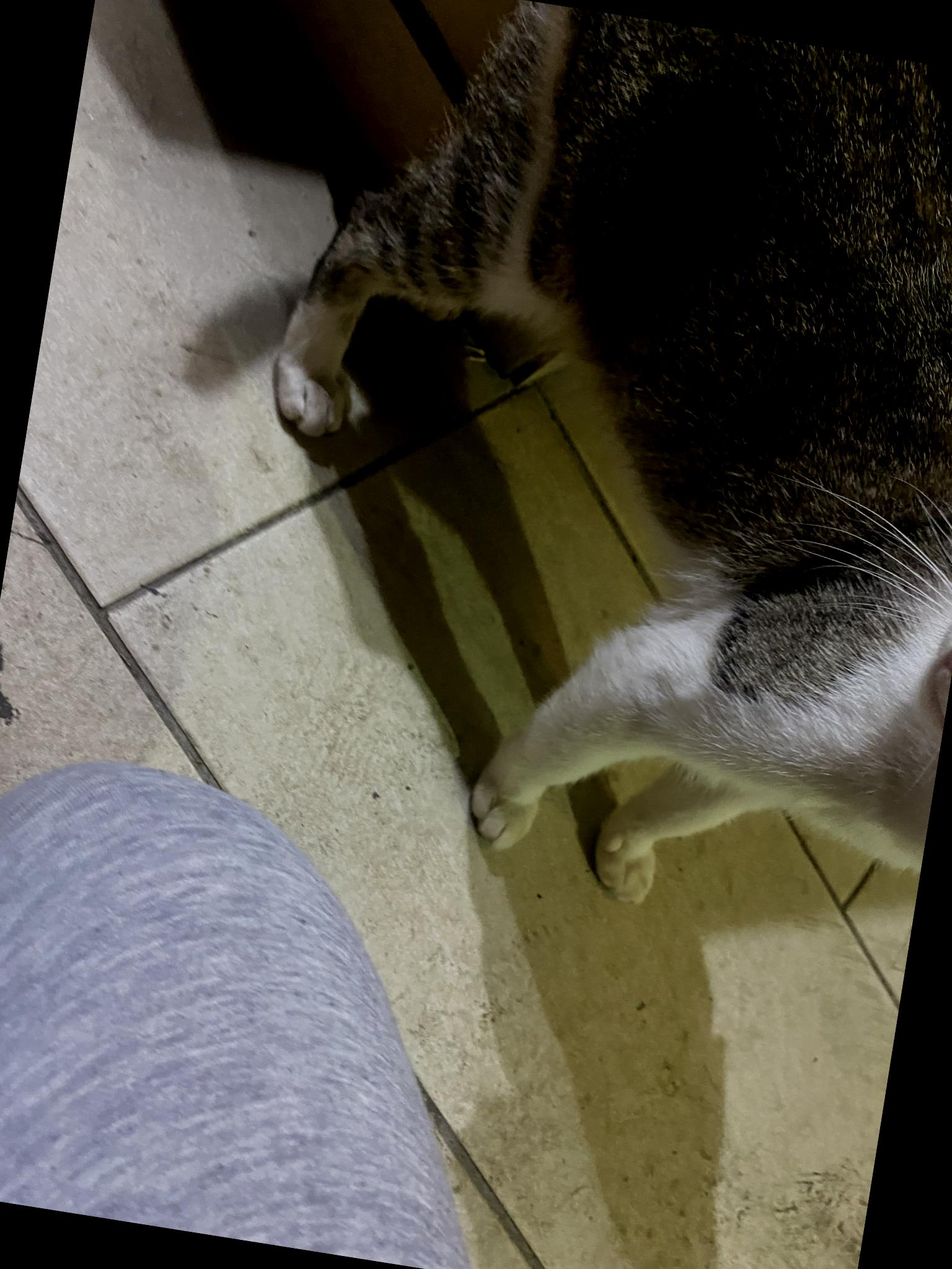macka: (201, 0, 952, 952)
